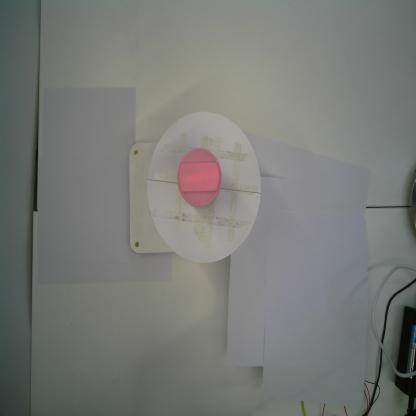Canned Food: (177, 146, 223, 212)
